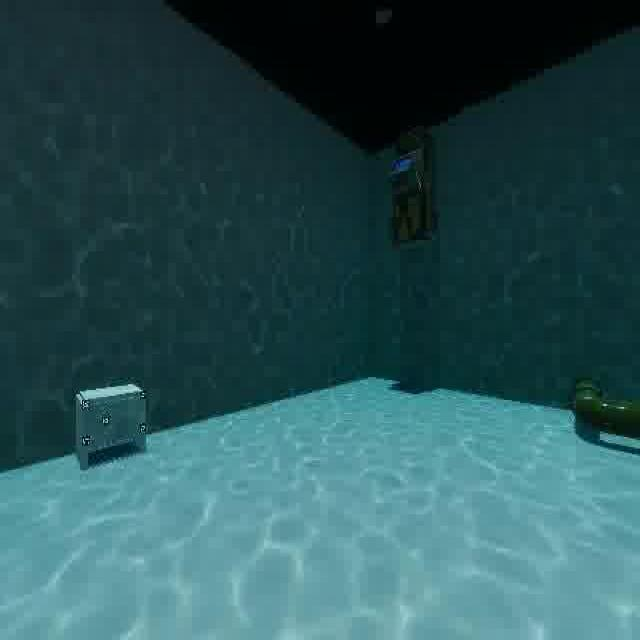Control Panel: (384, 120, 441, 260)
Docking Station: (71, 367, 153, 479)
Pipe: (566, 364, 640, 454)
